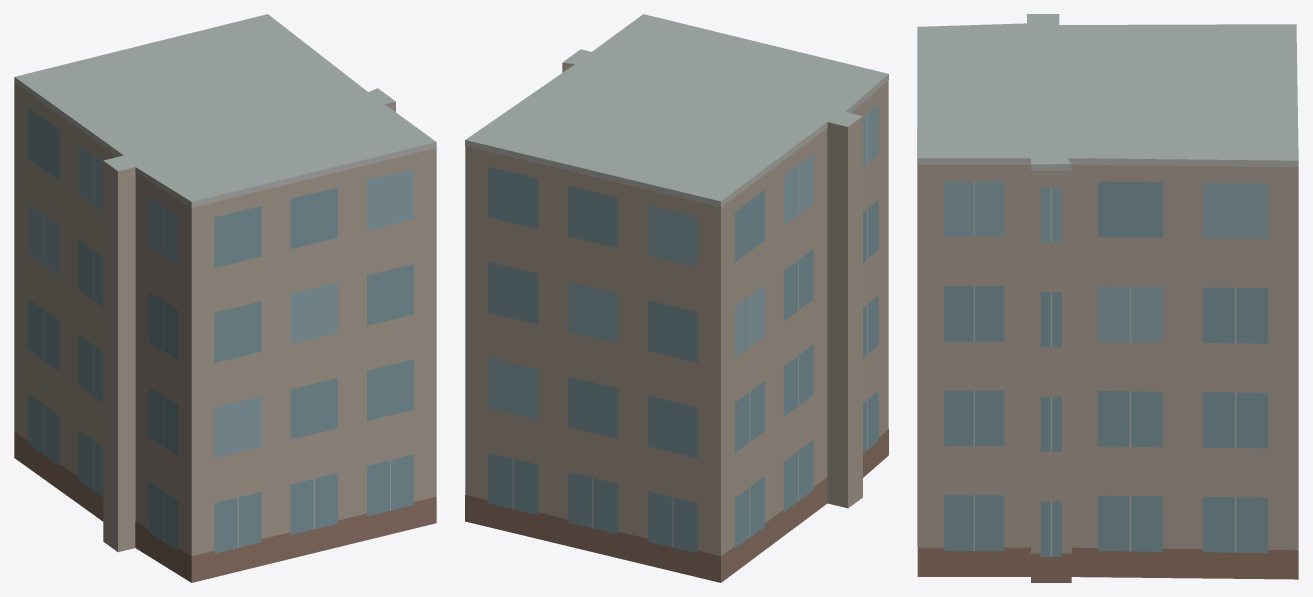
File: survey-upis-32492158.glb
3 renders of one model, left to right at view 1: azimuth 30°, elevation 25°; view 2: azimuth 150°, elevation 25°; view 3: azimuth 270°, elevation 25°, orthographic. The views are drawn at different scales.
Visible parts, largest first — view 1: survey-upis-32492158.tmp; view 2: survey-upis-32492158.tmp; view 3: survey-upis-32492158.tmp.
Boxes of the visible parts, <box> form: survey-upis-32492158.tmp: <box>14,14,436,582</box>; survey-upis-32492158.tmp: <box>465,14,888,582</box>; survey-upis-32492158.tmp: <box>917,14,1298,582</box>.
Size of the model in its own units: 12.01 by 15.6 by 12.89.
